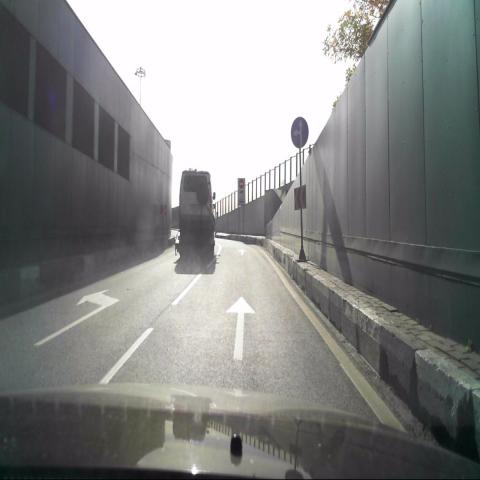4_1_5: (291, 117, 309, 148)
